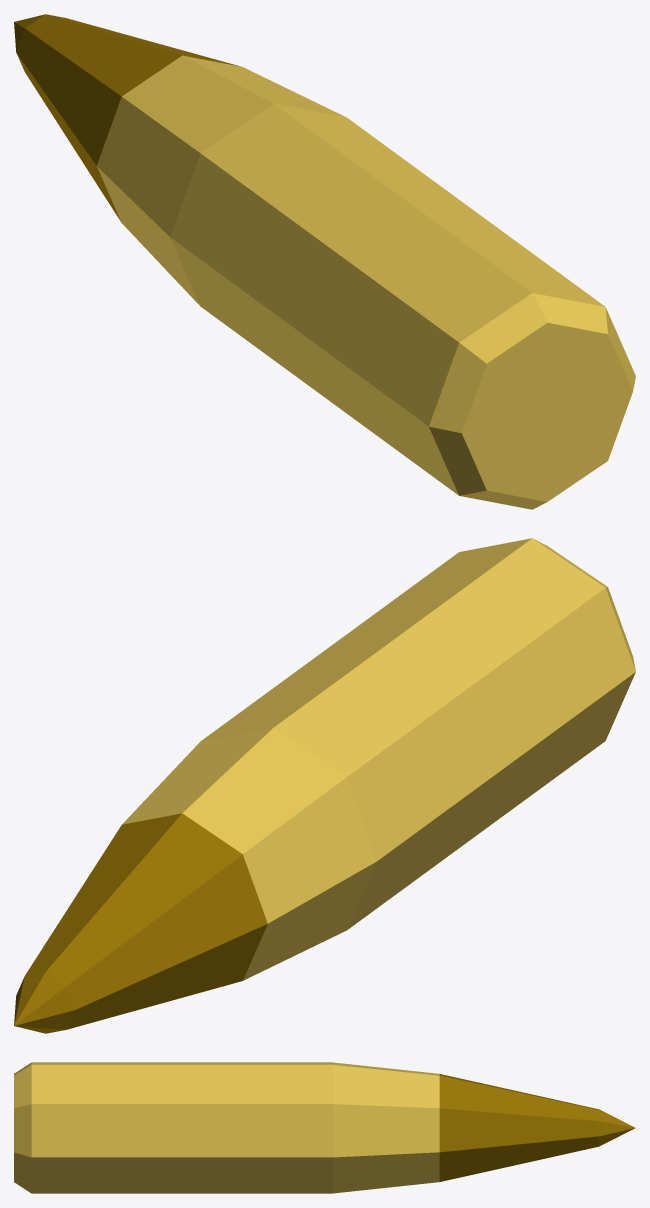
The model's file is Bullet Coloured.fbx.
3 views of the same model, one above another, from view 1: azimuth 30°, elevation 25°; view 2: azimuth 150°, elevation 25°; view 3: azimuth 270°, elevation 25° (orthographic). The views are drawn at different scales.
Parts seen in each view (by area): view 1: Projectile:pCylinder6; view 2: Projectile:pCylinder6; view 3: Projectile:pCylinder6.
Part boxes in pixels (x1,y1,x2,y2): Projectile:pCylinder6: [14, 14, 635, 509]; Projectile:pCylinder6: [14, 538, 635, 1033]; Projectile:pCylinder6: [14, 1062, 635, 1193].
Bounding box in the file's own units: 1.4 × 1.4 × 6.26.
